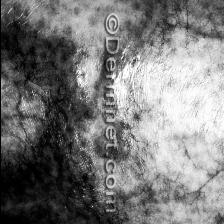Unclassified: (0, 11, 98, 215), (123, 0, 183, 224), (94, 215, 124, 224)
